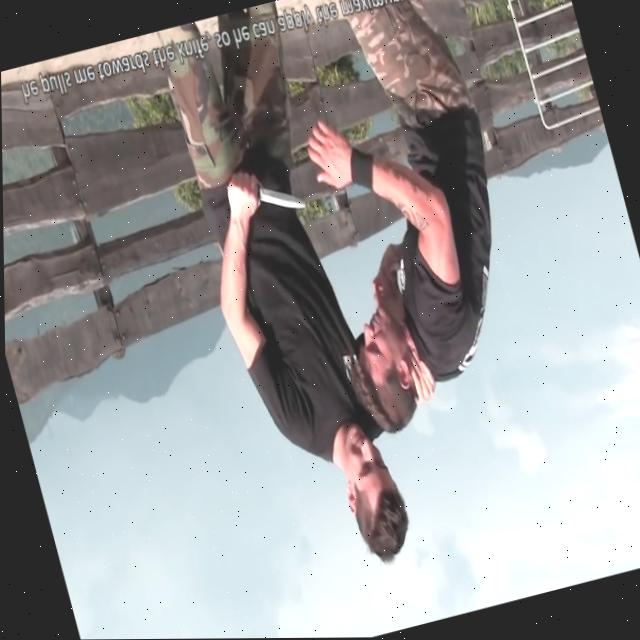knife: (251, 170, 305, 219)
